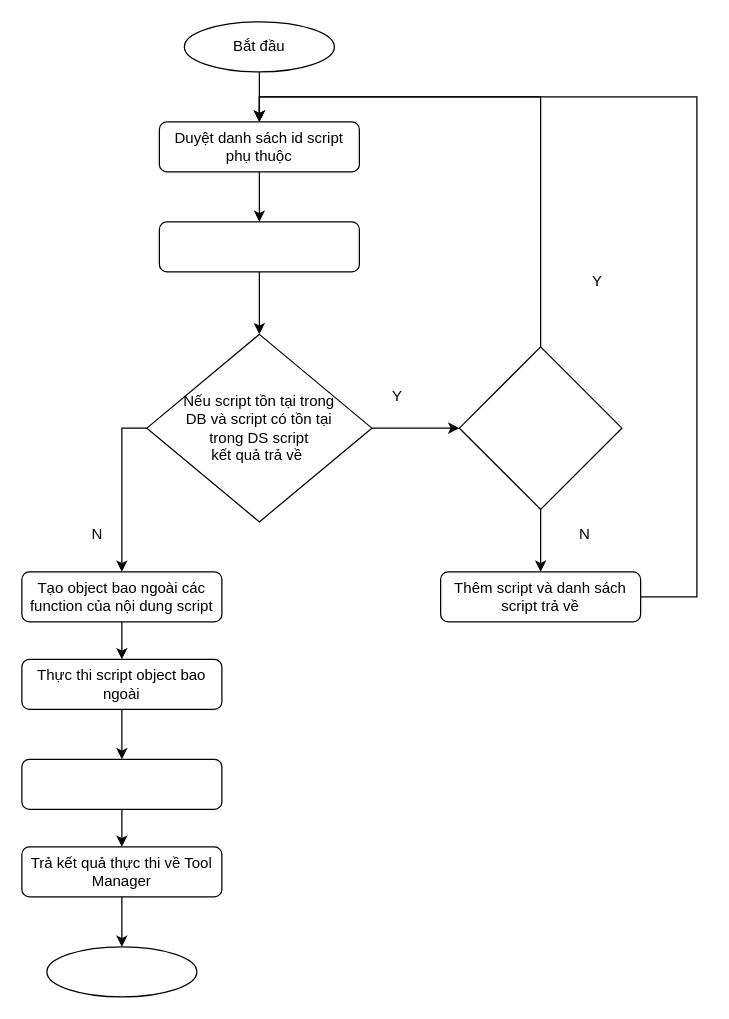
Image size: 729x1019. Some labels were removed from this diagram. The centre of each missing label's shape, as x and y in pixels:
Get một bản ghi script theo id: point (258, 246)
Kết thúc: point (121, 971)
Nếu script có DS id phụ thuộc không: point (540, 427)
Thực thi script chính: point (121, 783)
